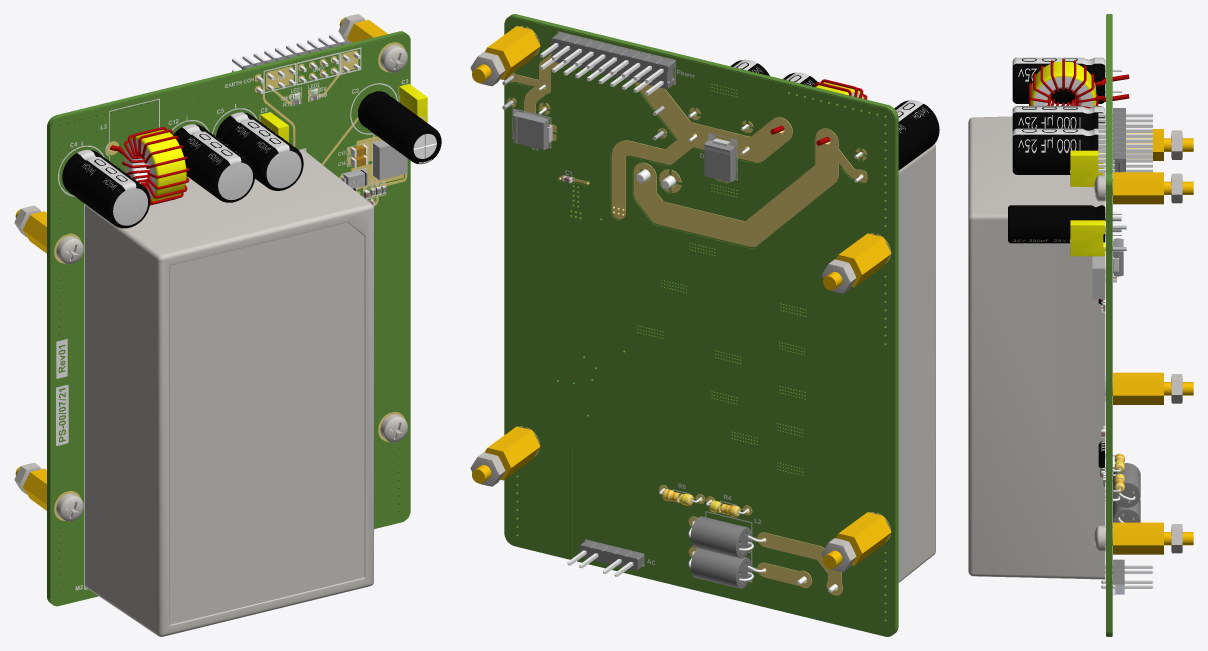
Rendered from Tester_Module_PS.glb.
3 renders of one model, left to right at view 1: azimuth 30°, elevation 25°; view 2: azimuth 150°, elevation 25°; view 3: azimuth 270°, elevation 25°, orthographic. The views are drawn at different scales.
Visible parts, largest first — view 1: ComponentBody_32, GND, Core, Top, ComponentBody_36, ComponentBody_66, ComponentBody_60, ComponentBody_63, ComponentBody_55, ComponentBody_64, ComponentBody_67, ComponentBody_61 (+13 smaller); view 2: GND, Core, ComponentBody_32, _V, VCC__12, ComponentBody_51, ComponentBody_50, ComponentBody_66, ComponentBody_14, ComponentBody_58, ComponentBody_12, ComponentBody_10 (+9 smaller); view 3: ComponentBody_32, Core, ComponentBody_36, ComponentBody_63, ComponentBody_50, ComponentBody_12, ComponentBody_14, ComponentBody_16, ComponentBody_66, ComponentBody_60, ComponentBody_55, ComponentBody_8 (+17 smaller).
Part boxes in pixels (x1,y1,x2,y2): ComponentBody_32: (85, 149, 373, 636); GND: (50, 34, 410, 605); Core: (47, 31, 410, 606); Top: (56, 47, 408, 590); ComponentBody_36: (358, 91, 441, 163); ComponentBody_66: (62, 150, 150, 228); ComponentBody_60: (173, 124, 255, 202); ComponentBody_63: (216, 112, 303, 190); ComponentBody_55: (110, 127, 189, 205); ComponentBody_64: (230, 112, 301, 188); ComponentBody_67: (77, 149, 147, 225); ComponentBody_61: (182, 124, 252, 199); GND: (505, 17, 894, 636); Core: (504, 14, 898, 636); ComponentBody_32: (643, 144, 935, 582); _V: (633, 128, 865, 246); VCC__12: (611, 82, 792, 219); ComponentBody_51: (551, 32, 675, 89); ComponentBody_50: (540, 43, 663, 95); ComponentBody_66: (894, 100, 939, 170); ComponentBody_14: (472, 26, 540, 83); ComponentBody_58: (690, 516, 751, 558); ComponentBody_12: (823, 512, 891, 569); ComponentBody_10: (823, 233, 891, 290); ComponentBody_32: (968, 116, 1105, 579); Core: (1106, 14, 1112, 636); ComponentBody_36: (1008, 205, 1105, 243); ComponentBody_63: (1012, 128, 1104, 174); ComponentBody_50: (1098, 113, 1152, 172); ComponentBody_12: (1113, 372, 1193, 404); ComponentBody_14: (1113, 172, 1193, 204); ComponentBody_16: (1113, 522, 1193, 554); ComponentBody_66: (1012, 58, 1105, 103); ComponentBody_60: (1012, 106, 1105, 131); ComponentBody_55: (1029, 58, 1129, 107); ComponentBody_8: (1070, 220, 1105, 256).
Size of the model in its own units: 8.5 by 11 by 4.85.
